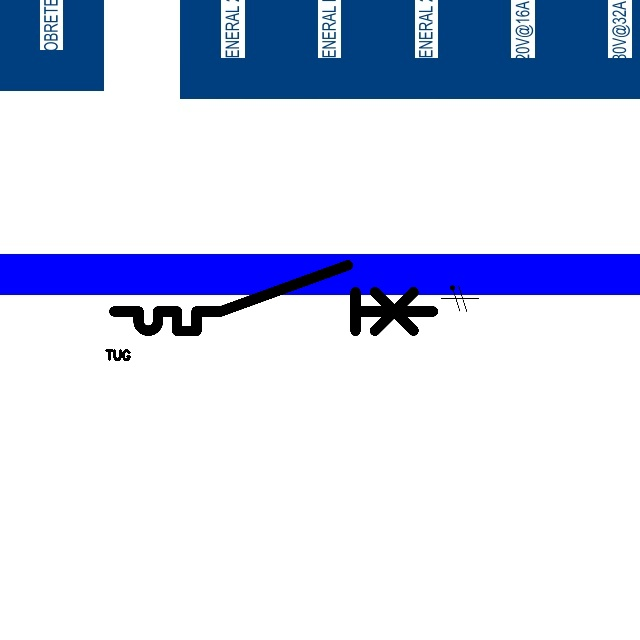interruptor_termomagnetico: (106, 257, 441, 339)
